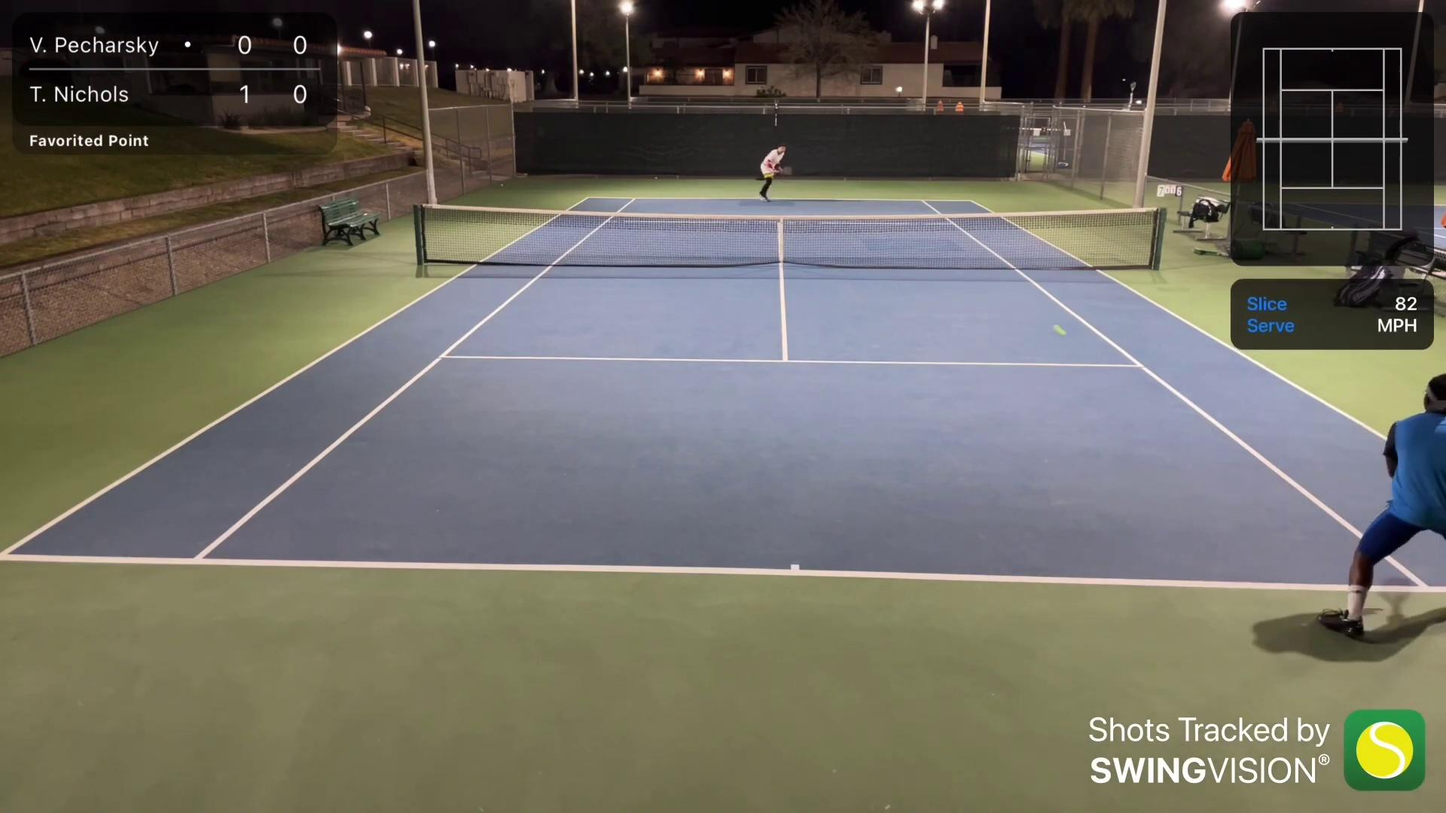ball: (1052, 324, 1071, 339), (651, 174, 660, 180), (1121, 76, 1128, 83), (498, 183, 506, 187)
